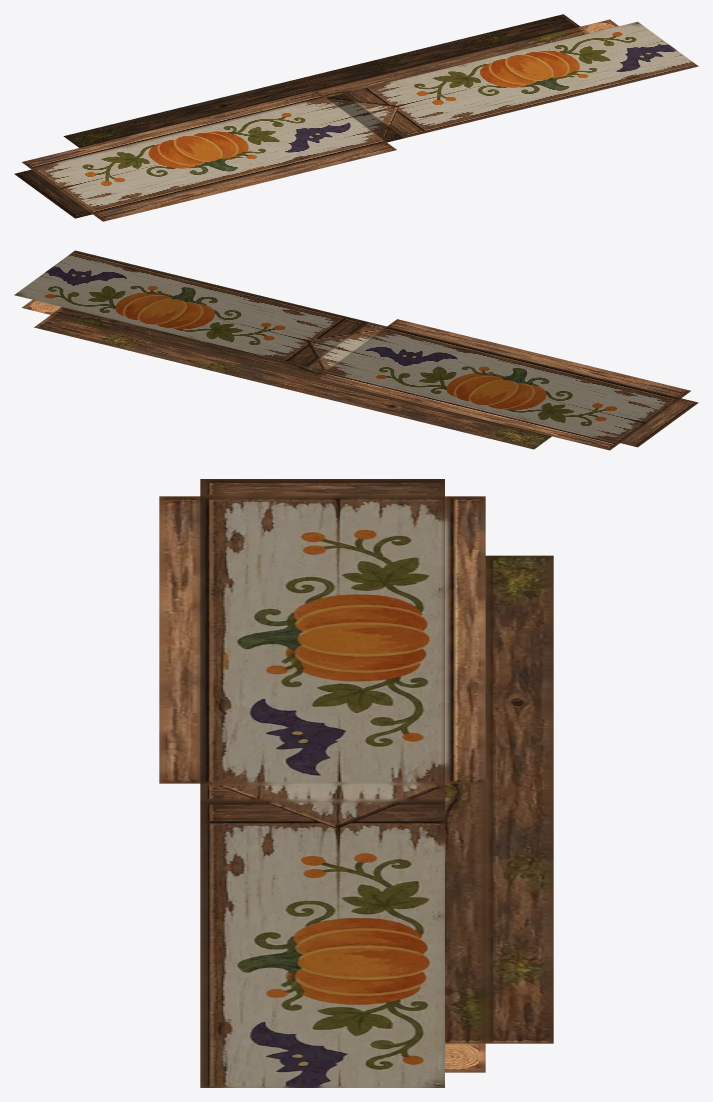
File: signpost_fold.glb
The picture shows the model from 3 angles, top to bottom: view 1: azimuth 30°, elevation 25°; view 2: azimuth 150°, elevation 25°; view 3: azimuth 270°, elevation 25°; orthographic projection. The views are drawn at different scales.
Parts seen in each view (by area): view 1: GEO-signpost; view 2: GEO-signpost; view 3: GEO-signpost.
Part boxes in pixels (x1,y1,x2,y2): GEO-signpost: [14, 14, 698, 221]; GEO-signpost: [14, 250, 698, 450]; GEO-signpost: [159, 479, 553, 1087].
Size of the model in its own units: 2.12 by 0.003 by 0.58.
1 material, 1 textured.
